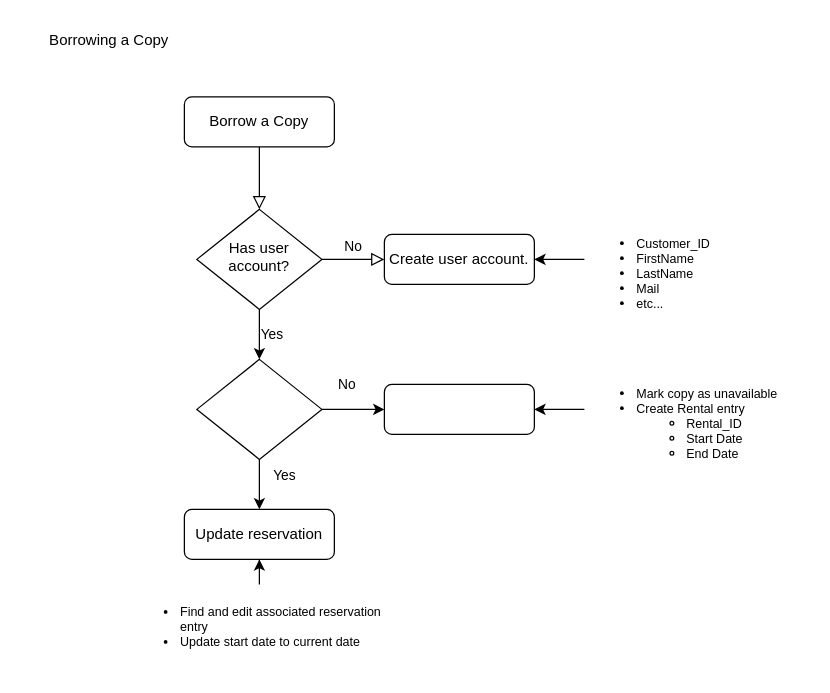
Some shapes in this 830 by 693 pixel diagram are drawn without their labels. Each missing label, with the centre of its shape:
"Create Rental" goes at (458,408).
"Has reservation?" goes at (259,408).
